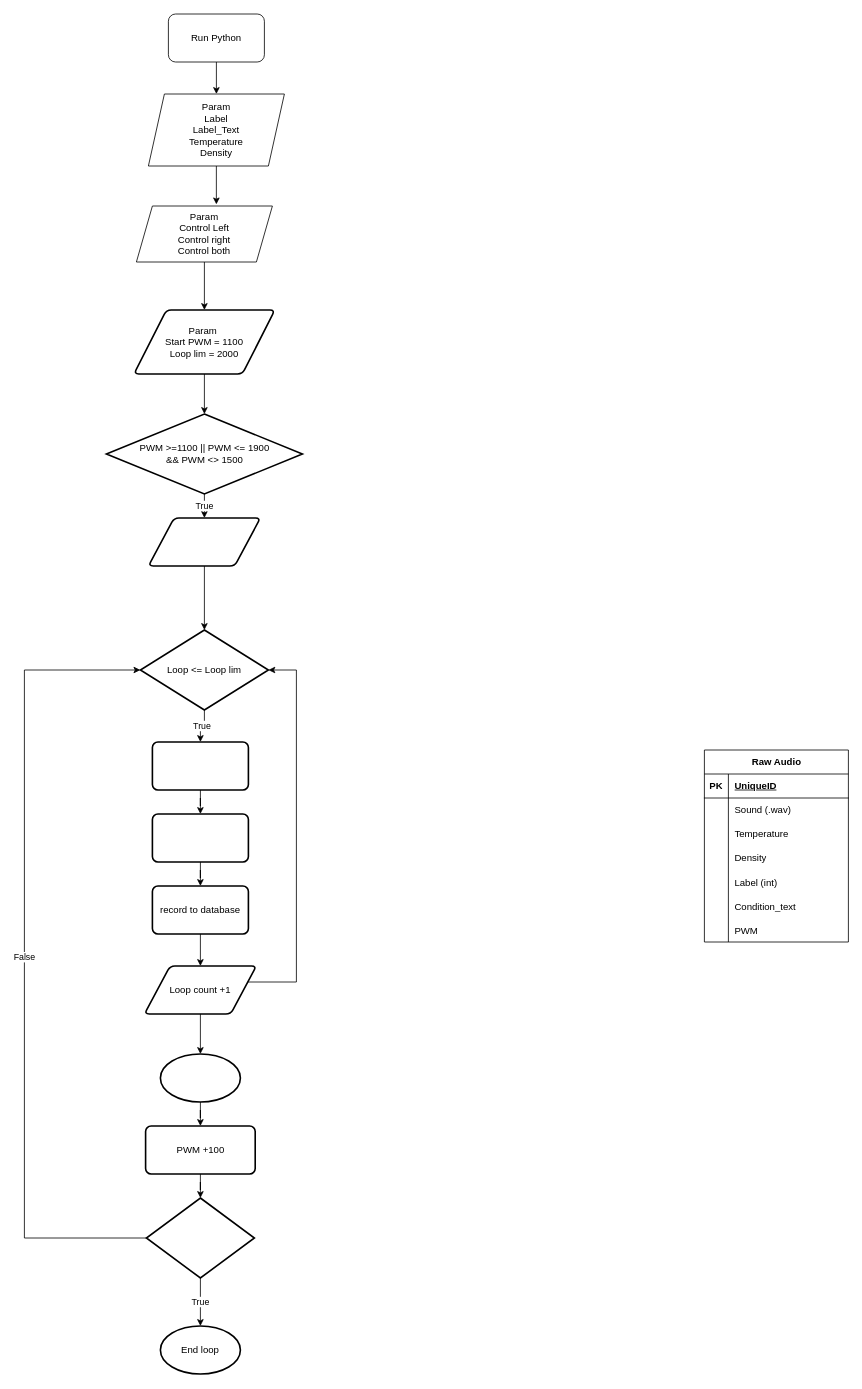
The diagram is 862 pixels wide and 1389 high, and some of its shapes have lost their labels. The shapes that lost their labels are listed below. From the top down, each one's box as (x1, y1, x2, y2) in pixels, then its label:
(147, 517, 261, 566): Loop count = 1
(151, 741, 249, 790): Run thruster 5s. record audio while running
(151, 813, 249, 862): Stop thruster
(159, 1053, 241, 1102): Finish 1 PWM cycle
(145, 1197, 255, 1278): PWM > 1900
